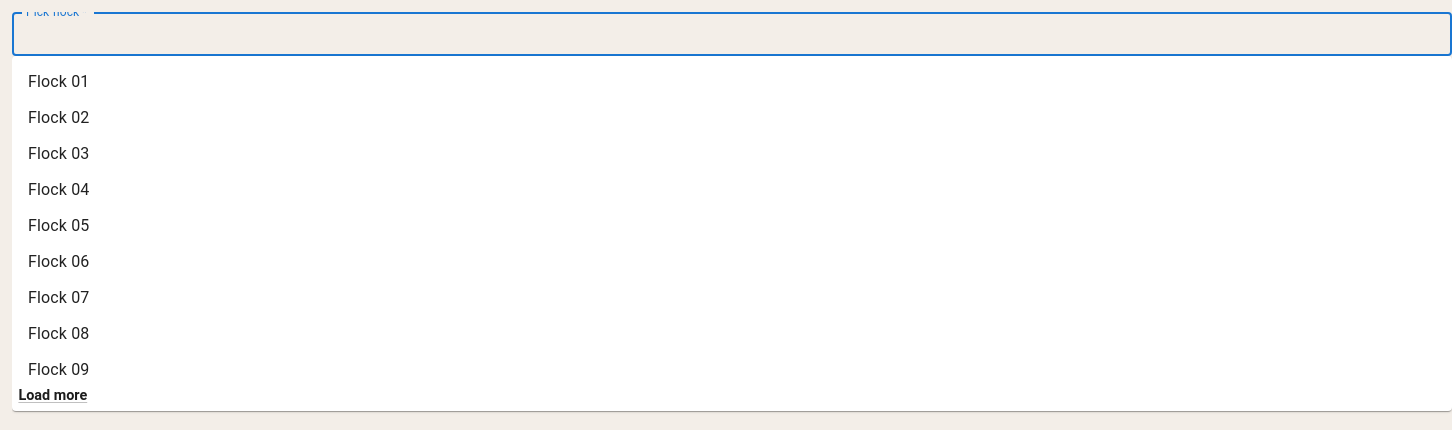
it: replacement paging (#512 FR-007) › requests 50 rows at a time, advancing the offset by the raw server count
The image size is (1452, 430).
Expected: the text "Flock 01" is shown, [28,70,90,94]
Click the button "Load more". click: click(53, 396)
box: [12,380,94,411]
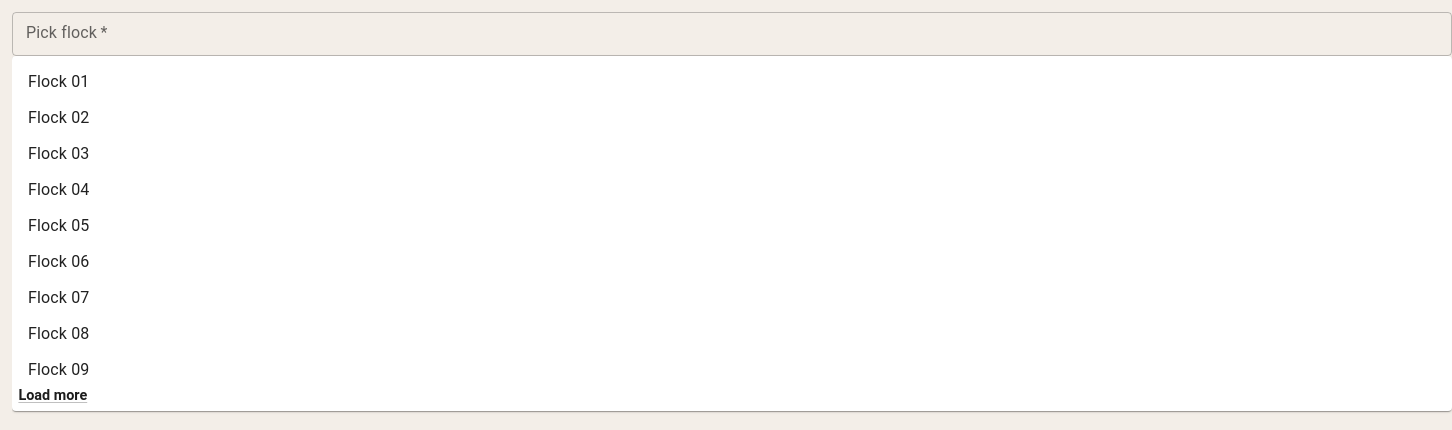
Click the button "Load more". click: click(53, 396)
box: [12,380,94,411]
(page scrolled)
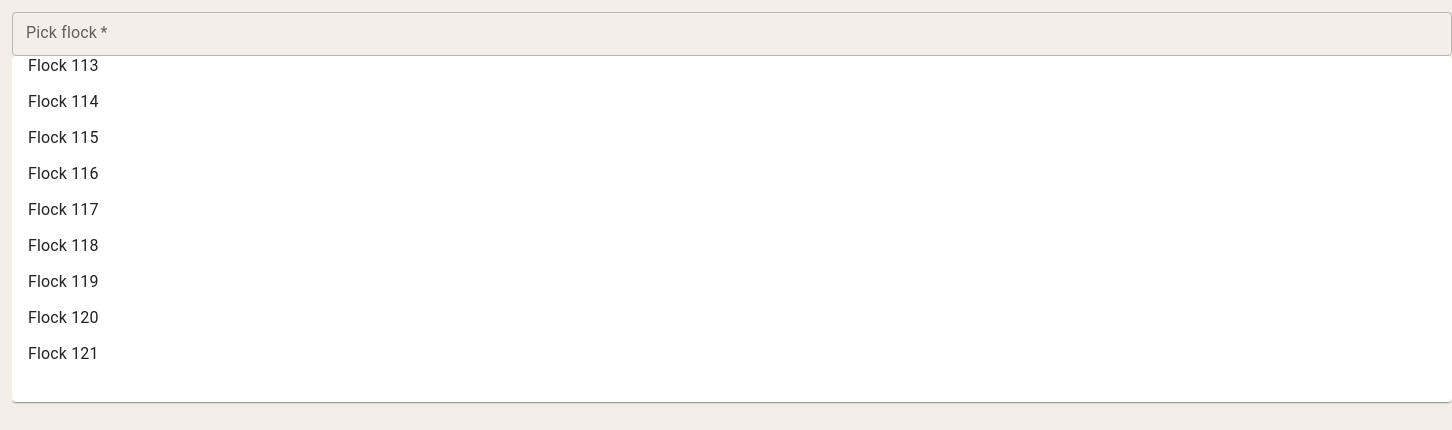
Result: the text "Flock 121" is shown at [28,342,99,366]
Result: the button "Load more" is gone
